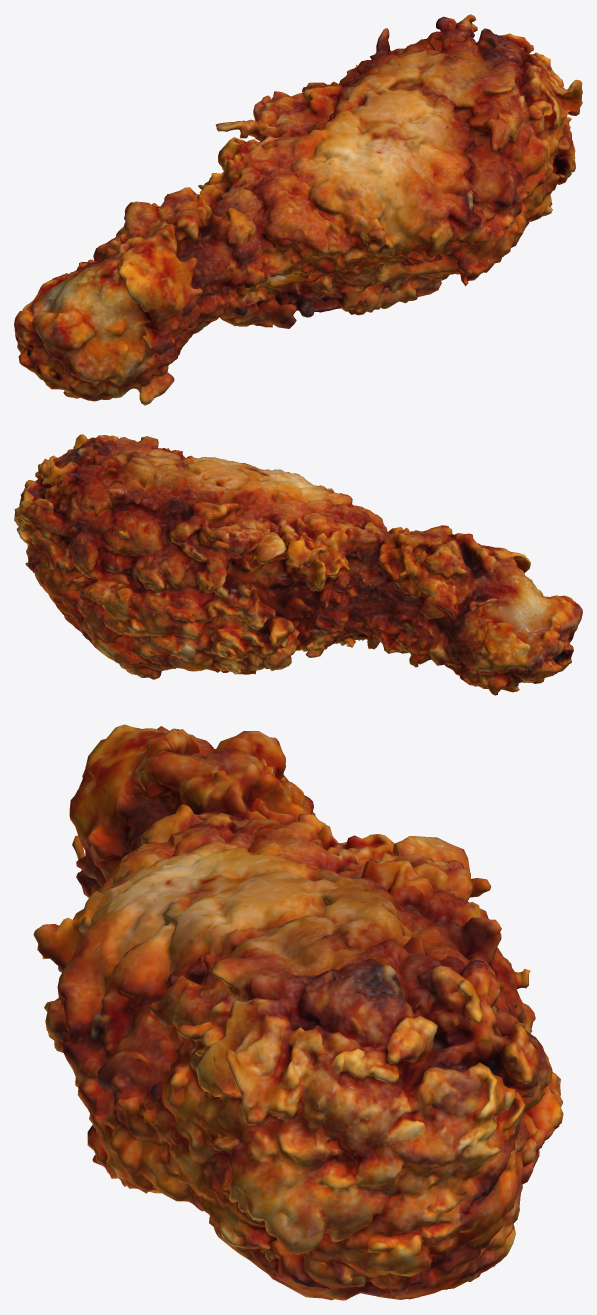
File: fried_chicken.fbx
3 views of the same model, one above another, from view 1: azimuth 30°, elevation 25°; view 2: azimuth 150°, elevation 25°; view 3: azimuth 270°, elevation 25° (orthographic). The views are drawn at different scales.
Visible parts, largest first — view 1: model; view 2: model; view 3: model.
Boxes of the visible parts, <box> form: model: <box>14,14,582,405</box>; model: <box>14,434,582,695</box>; model: <box>33,724,563,1300</box>.
Size of the model in its own units: 63.55 by 24.57 by 29.57.
1 material, 1 textured.
